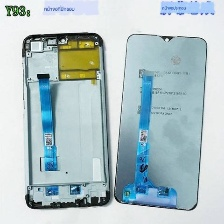phone: (110, 30, 210, 213), (18, 29, 114, 211)
